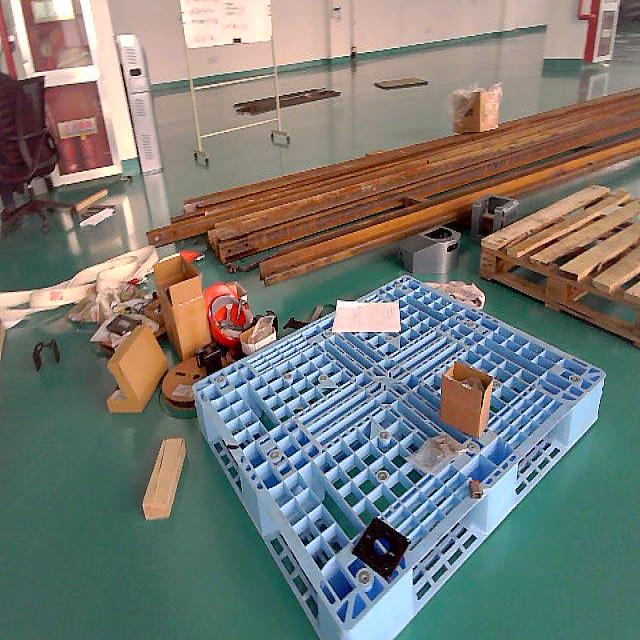euro: (480, 185, 639, 345)
